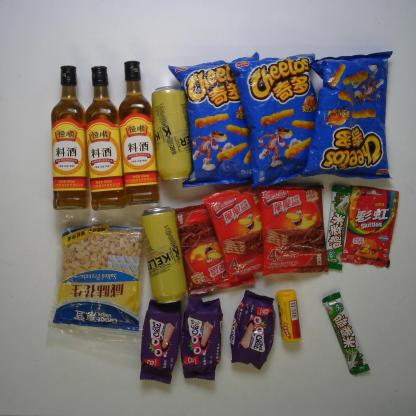Alcohol: (140, 205, 188, 305), (148, 83, 194, 182)
Candy: (342, 184, 401, 270), (276, 288, 303, 341)
Chocolate: (324, 290, 372, 376), (320, 183, 354, 271)
Dessert: (201, 178, 282, 281), (171, 203, 256, 297), (260, 175, 327, 276), (134, 293, 182, 385), (177, 293, 224, 381), (229, 288, 274, 370)
Dried Fruit: (45, 200, 156, 361)
Puffed Food: (301, 46, 396, 182), (167, 53, 262, 189), (229, 52, 320, 189)
Seasoner: (115, 57, 161, 205), (81, 62, 126, 210), (48, 62, 92, 209)
